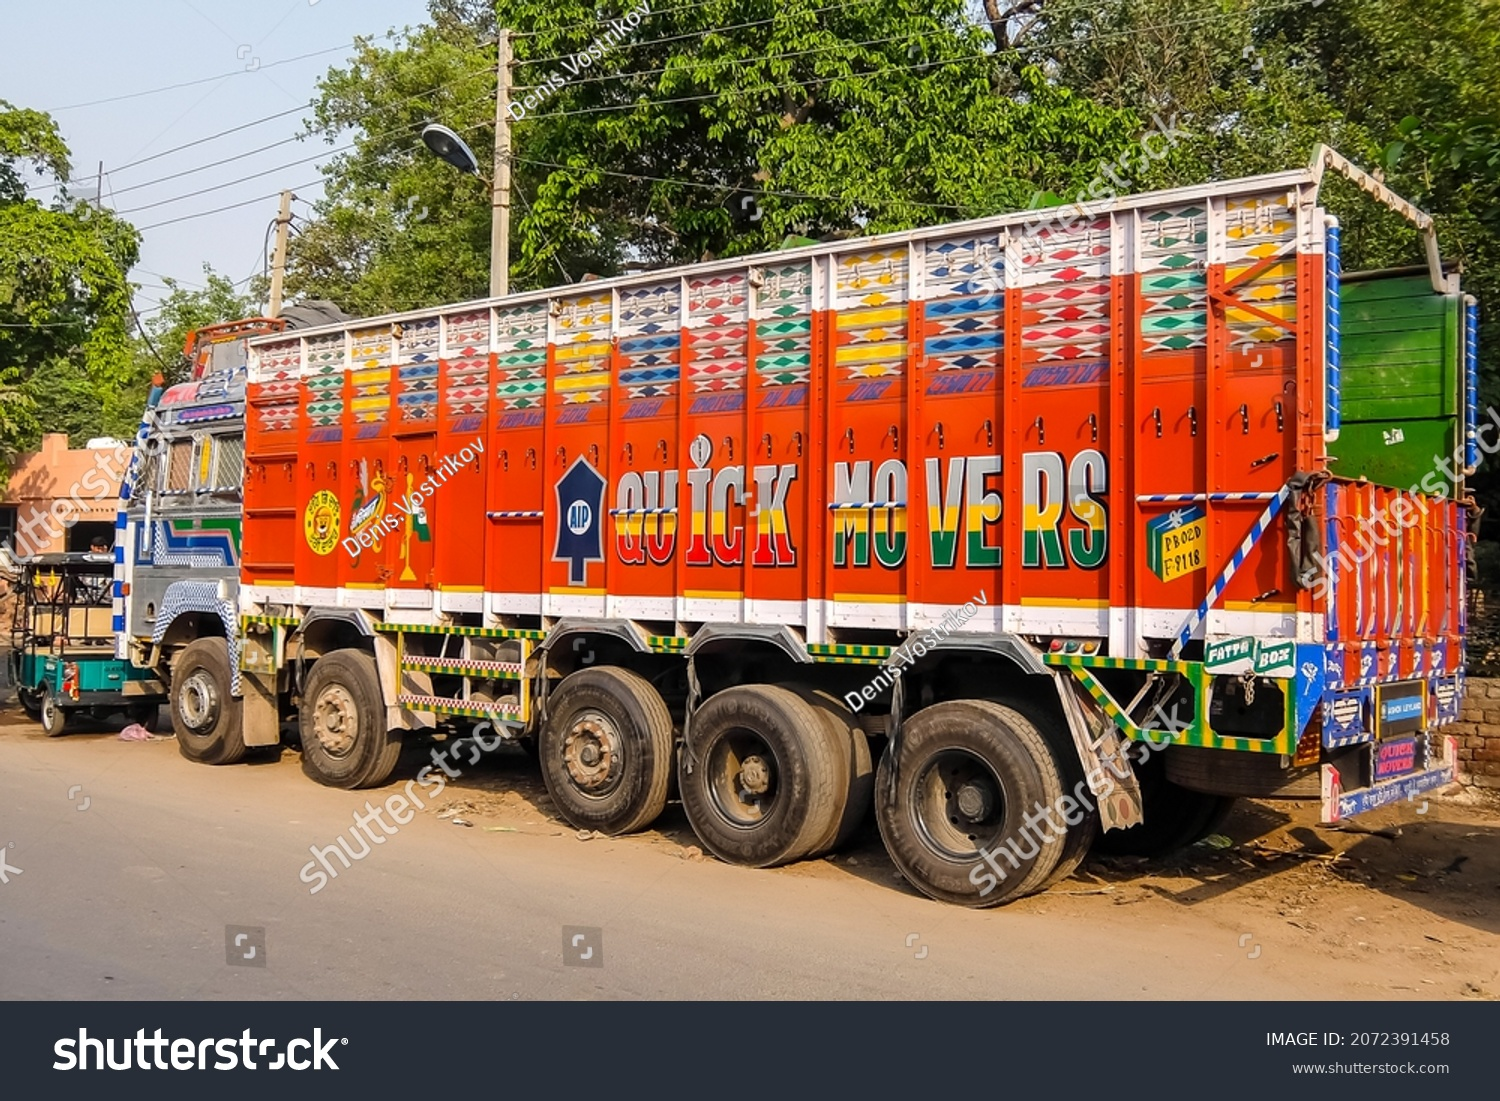wheel: (869, 694, 1088, 896), (681, 676, 861, 871), (542, 662, 668, 840), (295, 650, 392, 804), (161, 630, 257, 760)
